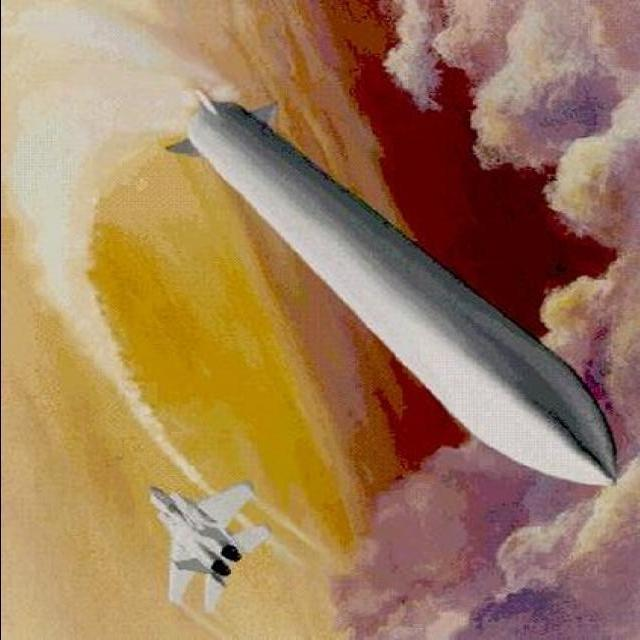missile: (170, 95, 616, 472)
